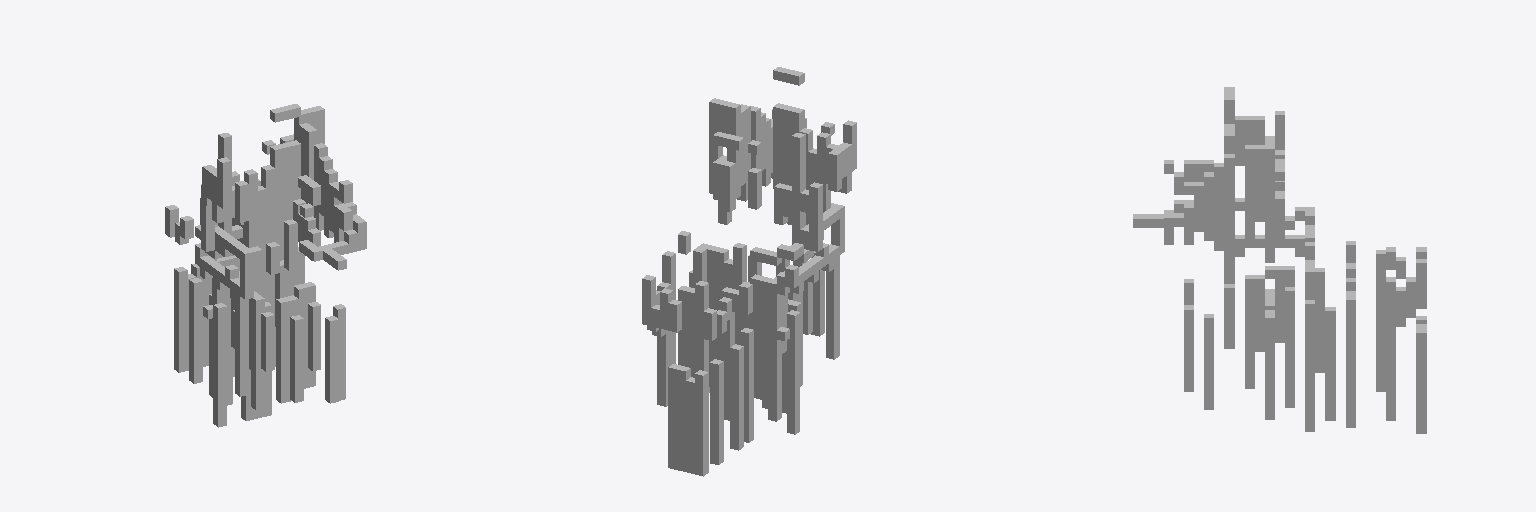
The model's file is worldtest.obj.
3 renders of one model, left to right at view 1: azimuth 30°, elevation 25°; view 2: azimuth 150°, elevation 25°; view 3: azimuth 270°, elevation 25°, orthographic.
Bounding box in the file's own units: 28 × 72 × 58.